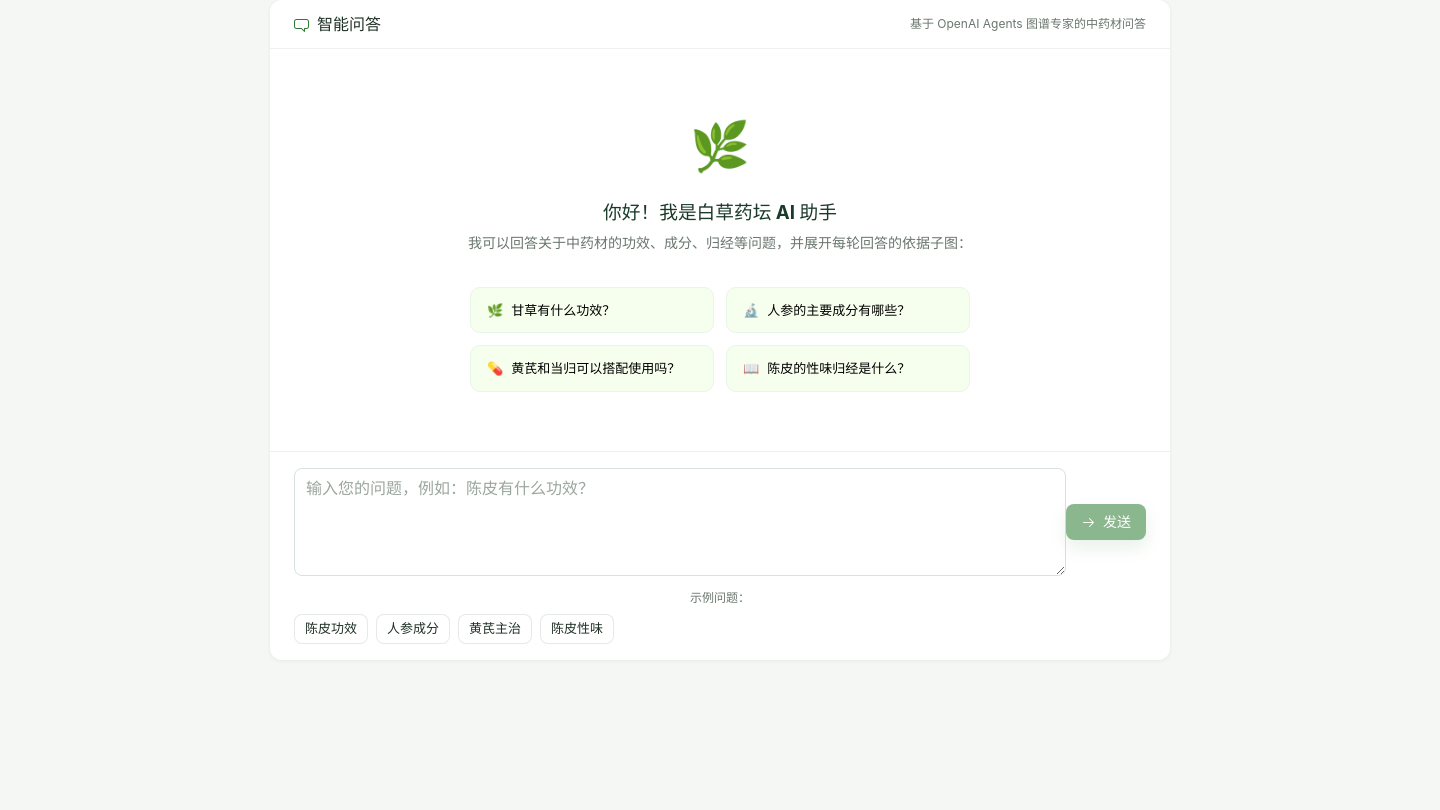
ChatPage › renders a citation, opens lineage with entity_id, and prefills review from evidence
Type "陈皮有什么功效？" into the text box with placeholder "输入您的问题，例如：陈皮有什么功效？" at coordinates (680, 522), box left=294, top=468, right=1066, bottom=576
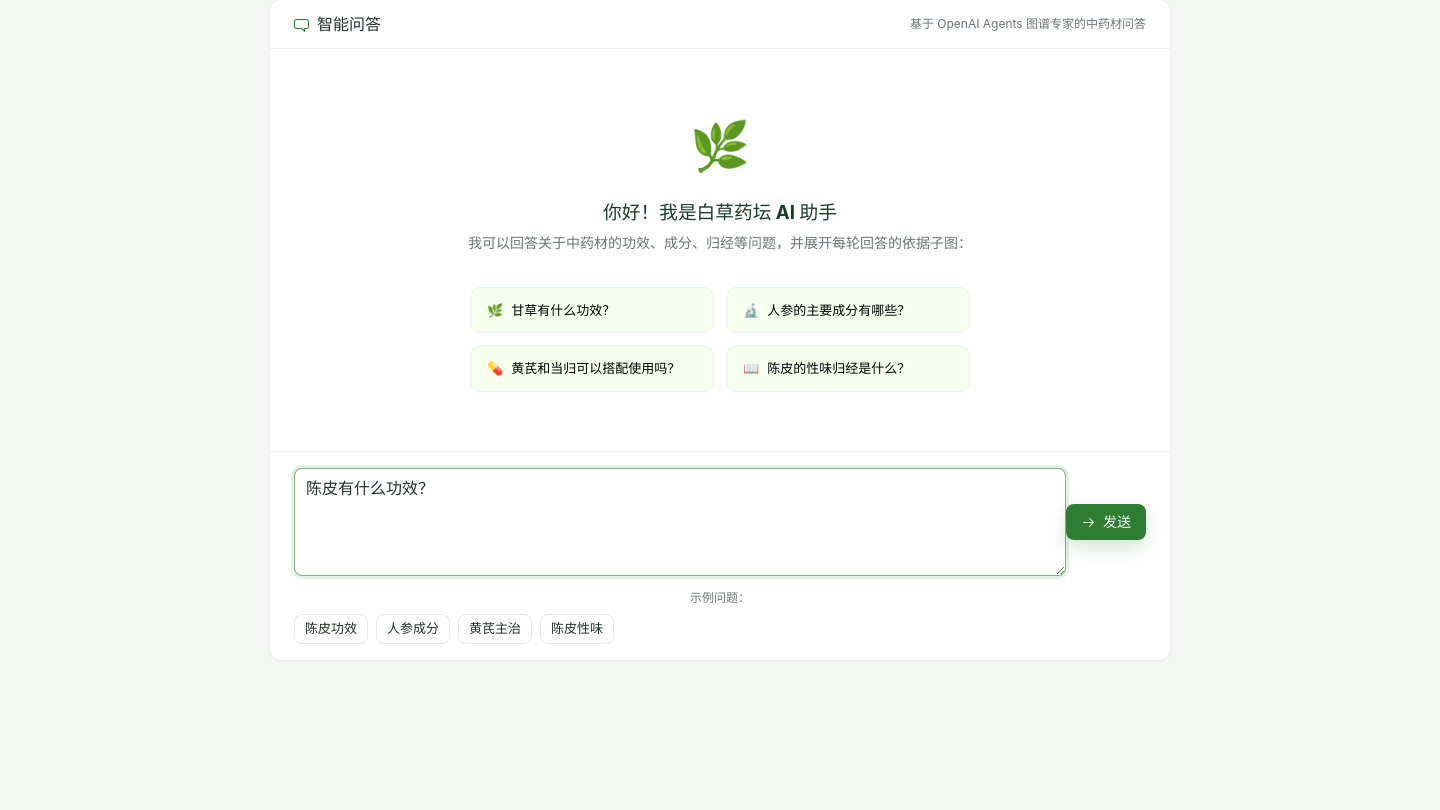
Click the button "发送" at coordinates (1106, 522), box left=1066, top=504, right=1146, bottom=540
(page scrolled)
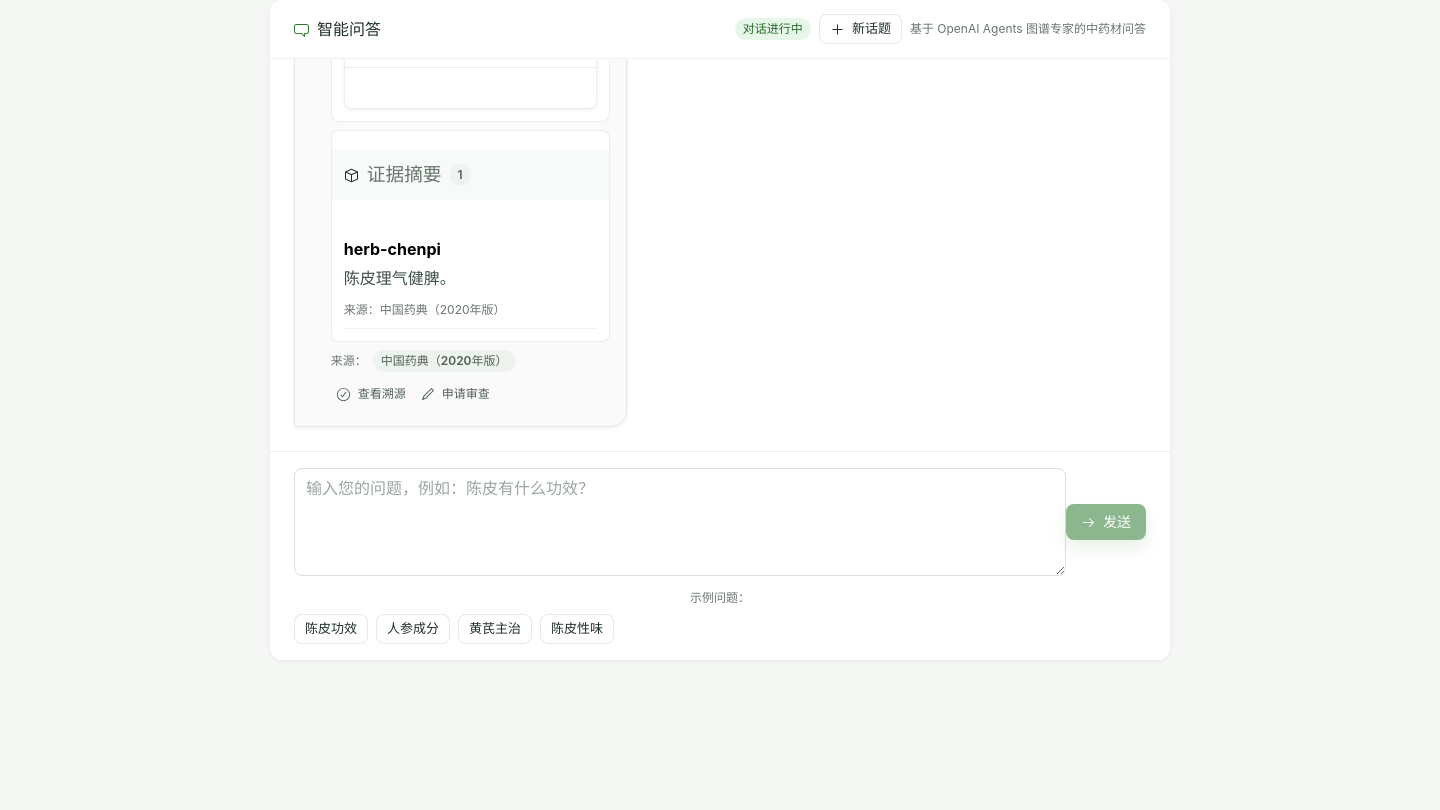
Expected: the text "陈皮理气健脾。" is shown, left=344, top=268, right=456, bottom=288
Expected: the text "中国药典（2020年版）" is shown, left=373, top=350, right=516, bottom=372
Expected: the element with test id "chat-citation" is shown, left=331, top=350, right=516, bottom=410
Click the button with aria-label "查看溯源 herb-chenpi" at coordinates (371, 394), box left=331, top=380, right=411, bottom=410
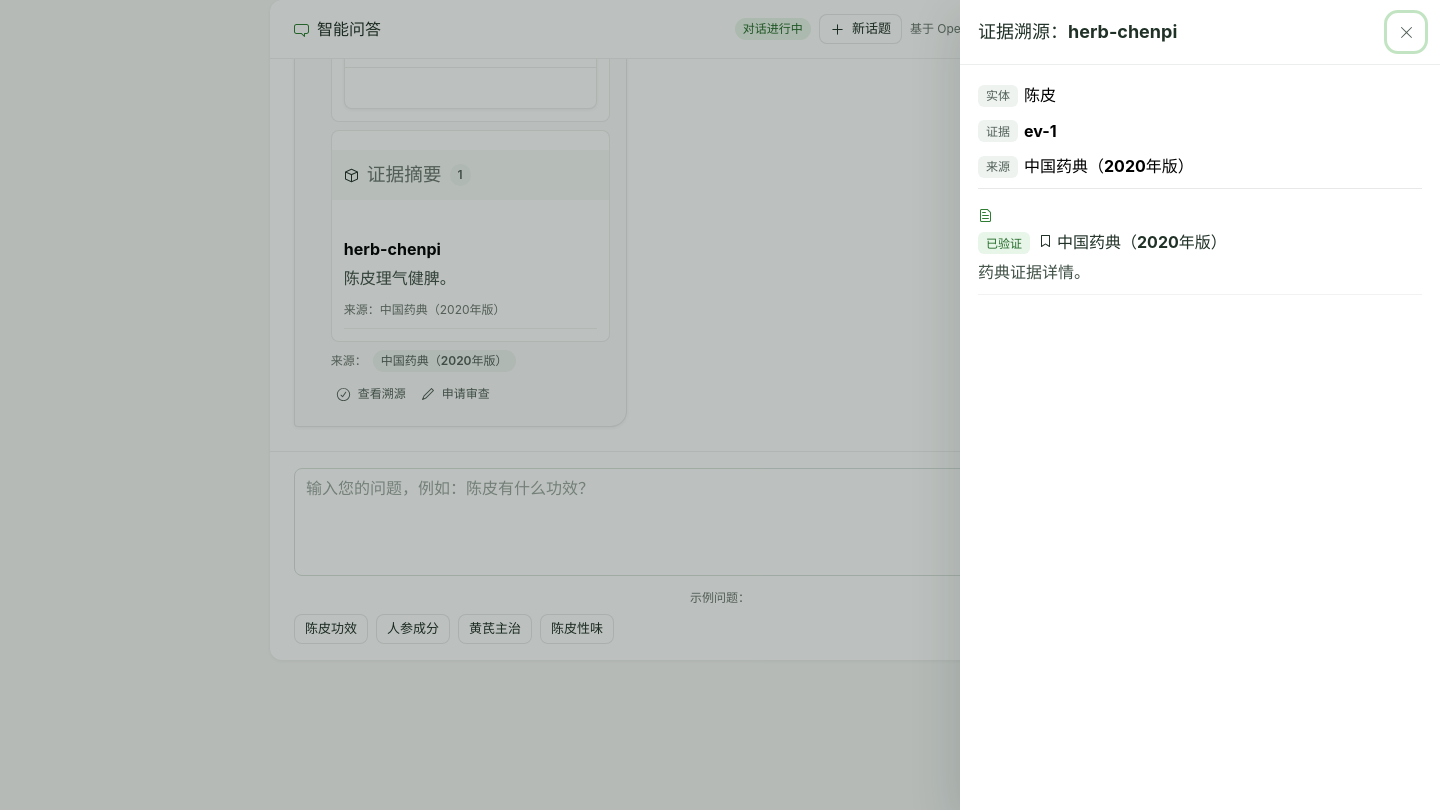
Expected: the heading "证据溯源：herb-chenpi" is shown, left=978, top=20, right=1177, bottom=44
Expected: the text "药典证据详情。" is shown, left=978, top=262, right=1090, bottom=282
Click the button named "关闭抽屉" at coordinates (1406, 32), box left=1390, top=16, right=1422, bottom=48
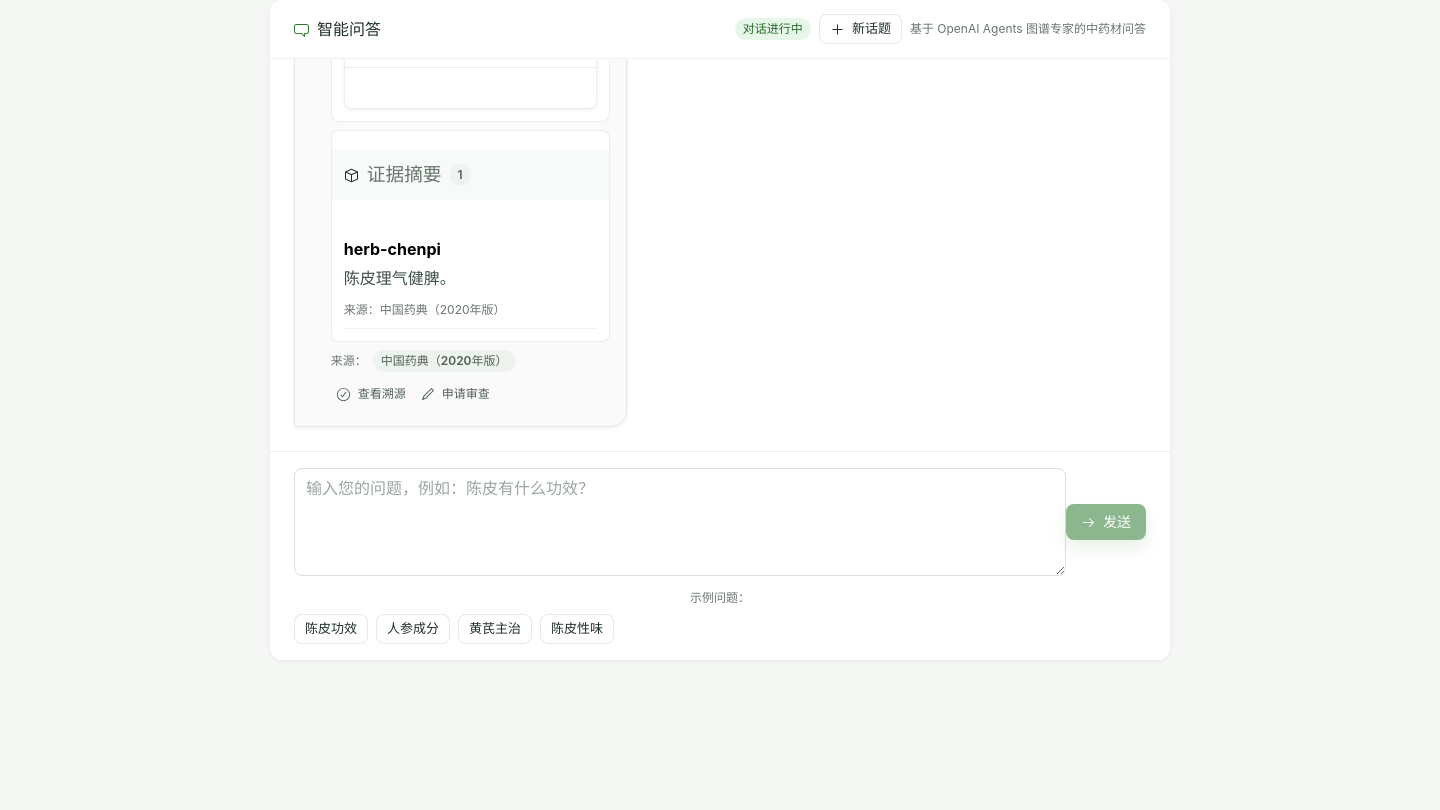
Click the button with aria-label "申请审查 herb-chenpi" at coordinates (455, 394), box left=415, top=380, right=495, bottom=410
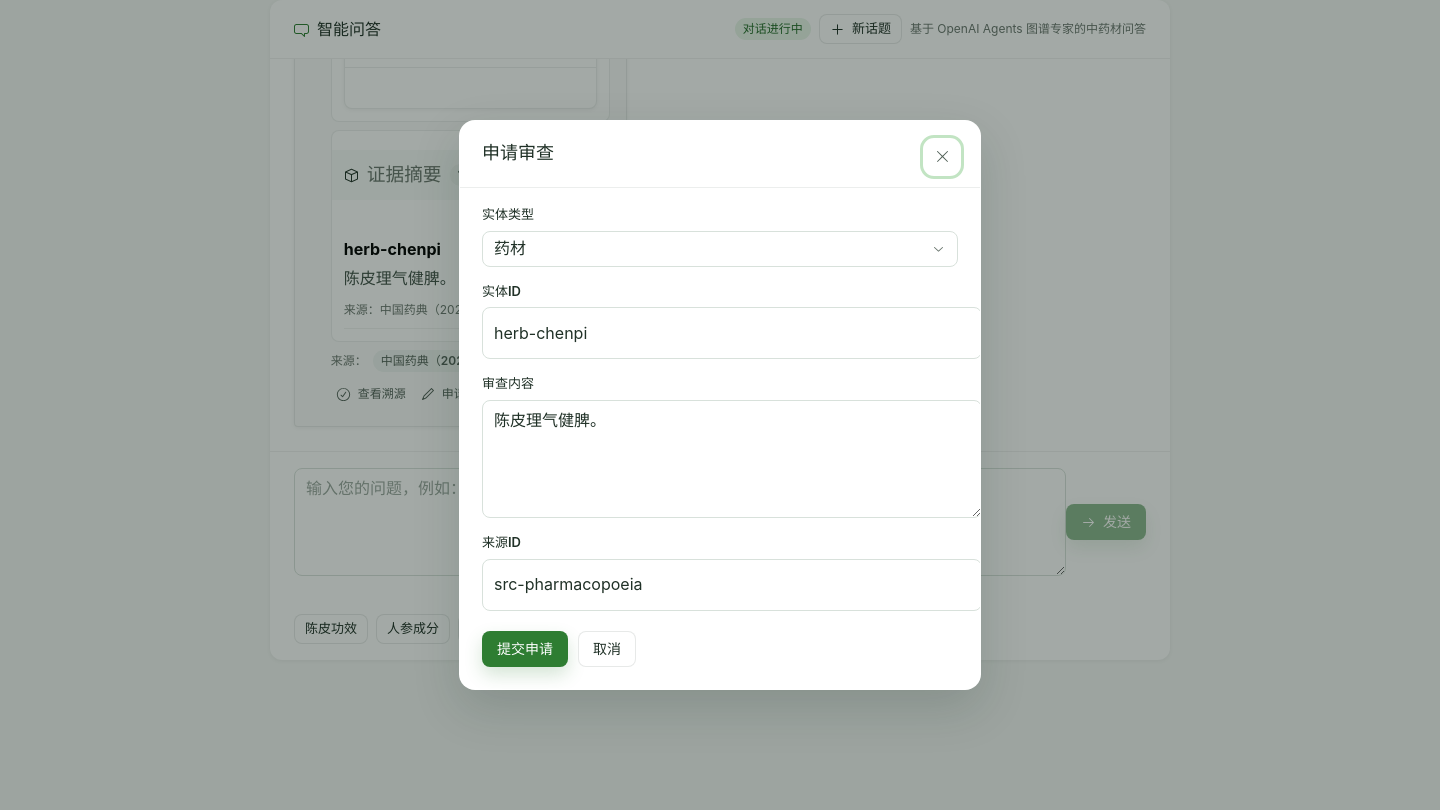
Expected: the field labelled "实体ID" holds "herb-chenpi", left=482, top=307, right=981, bottom=359
Expected: the field labelled "来源ID" holds "src-pharmacopoeia", left=482, top=559, right=981, bottom=611
Expected: the text box labelled "审查内容" holds "陈皮理气健脾。", left=482, top=400, right=981, bottom=518
